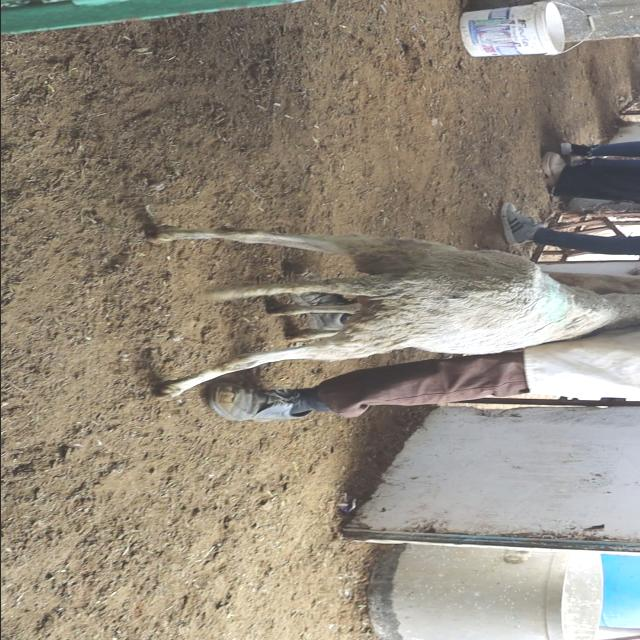Score_1: (149, 226, 640, 399)
